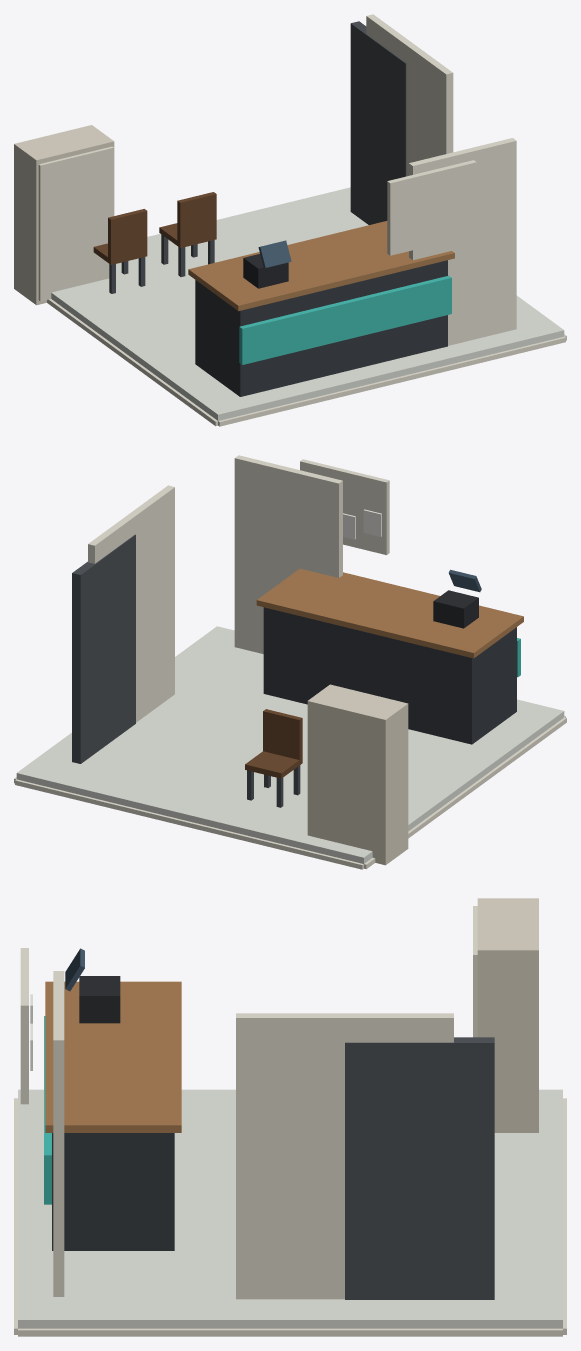
File: interior.civic.glb
3 renders of one model, top to bottom at view 1: azimuth 30°, elevation 25°; view 2: azimuth 150°, elevation 25°; view 3: azimuth 270°, elevation 25°, orthographic. The views are drawn at different scales.
Parts seen in each view (by area): view 1: interior.civic; view 2: interior.civic; view 3: interior.civic.
Part boxes in pixels (x1=…): interior.civic: x1=14, y1=14, x2=566, y2=426; interior.civic: x1=14, y1=455, x2=566, y2=869; interior.civic: x1=14, y1=898, x2=566, y2=1336.
Size of the model in its own units: 4.18 by 2.4 by 4.06.
